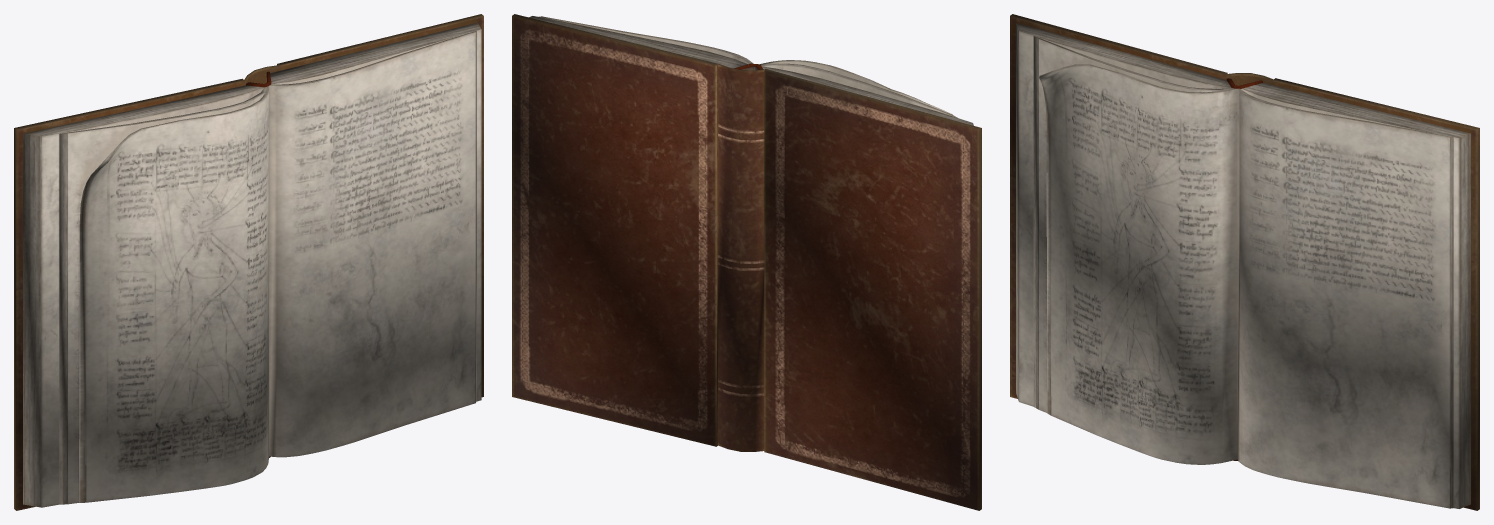
3 views of the same model, side by side, from view 1: azimuth 30°, elevation 25°; view 2: azimuth 150°, elevation 25°; view 3: azimuth 330°, elevation 25° (orthographic).
Visible parts, largest first — view 1: Book_02_low; view 2: Book_02_low; view 3: Book_02_low.
Boxes of the visible parts, x1=… form: Book_02_low: x1=14, y1=14, x2=483, y2=510; Book_02_low: x1=512, y1=14, x2=981, y2=510; Book_02_low: x1=1010, y1=14, x2=1479, y2=510.
Size of the model in its own units: 2 by 1.56 by 0.2525.
1 material, 1 textured.
